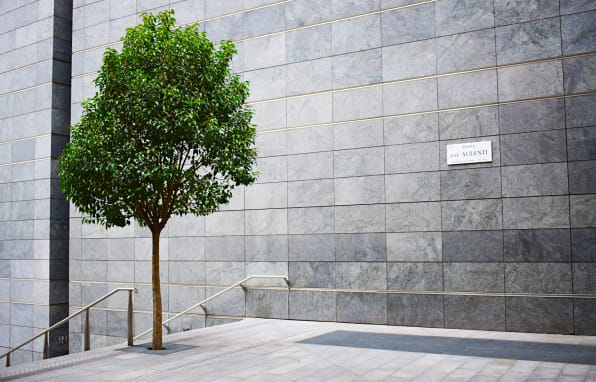tree: (55, 10, 260, 351)
